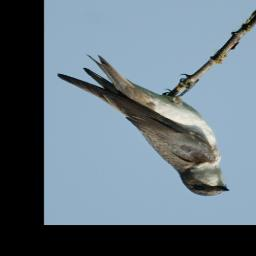Swallow: (57, 54, 230, 197)
